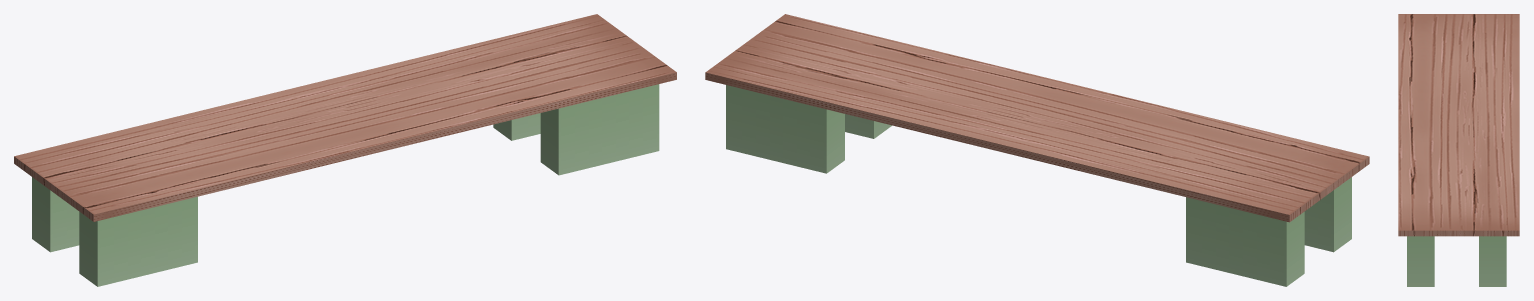
The model's file is BancsGare.fbx.
3 renders of one model, left to right at view 1: azimuth 30°, elevation 25°; view 2: azimuth 150°, elevation 25°; view 3: azimuth 270°, elevation 25°, orthographic. The views are drawn at different scales.
Parts seen in each view (by area): view 1: Plane.036; view 2: Plane.036; view 3: Plane.036.
Boxes of the visible parts, <box> form: Plane.036: <box>14,14,676,286</box>; Plane.036: <box>705,14,1369,286</box>; Plane.036: <box>1398,14,1519,286</box>.
Size of the model in its own units: 134 by 17.6 by 31.84.
